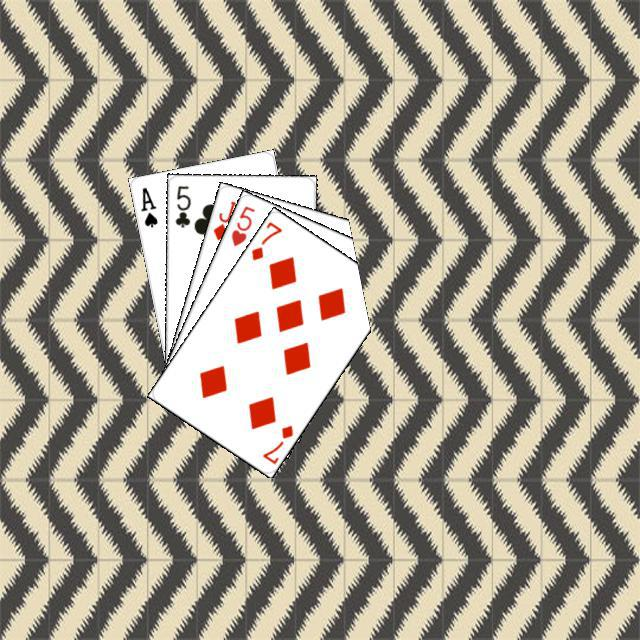5c: (171, 181, 192, 229)
5h: (226, 201, 256, 248)
7d: (246, 217, 284, 262), (257, 420, 295, 465)
As: (136, 182, 159, 229)
Jd: (208, 196, 238, 242)
